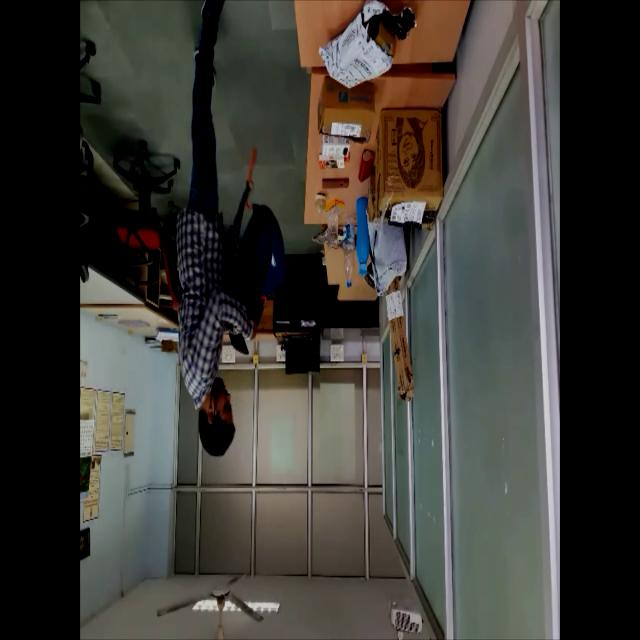shoplifting: (166, 3, 288, 466)
